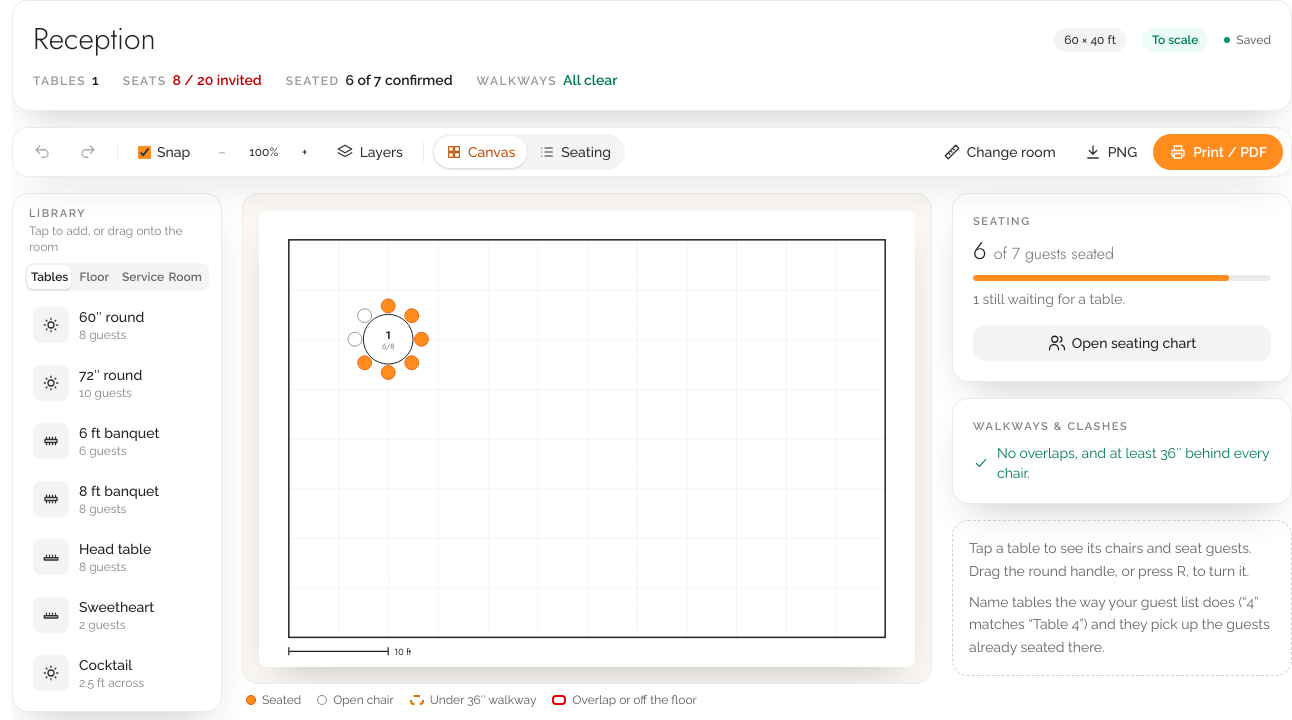
Scenario: LayoutEditor › opens the seating chart with the guests still waiting
Click the button "Seating" at (575,152), box [527, 136, 623, 168]
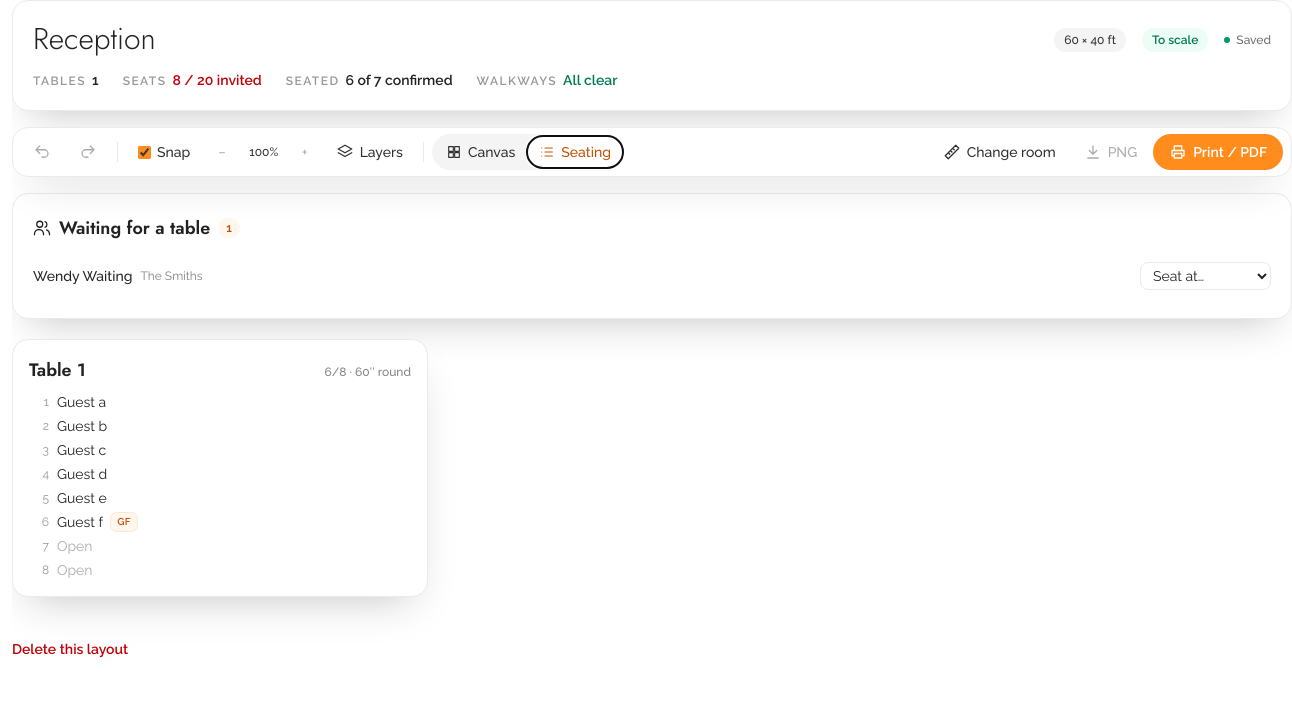
Check: the heading "Waiting for a table 1" is shown, box [33, 215, 240, 241]
Check: the text "Wendy Waiting" is shown, box [33, 266, 132, 286]
